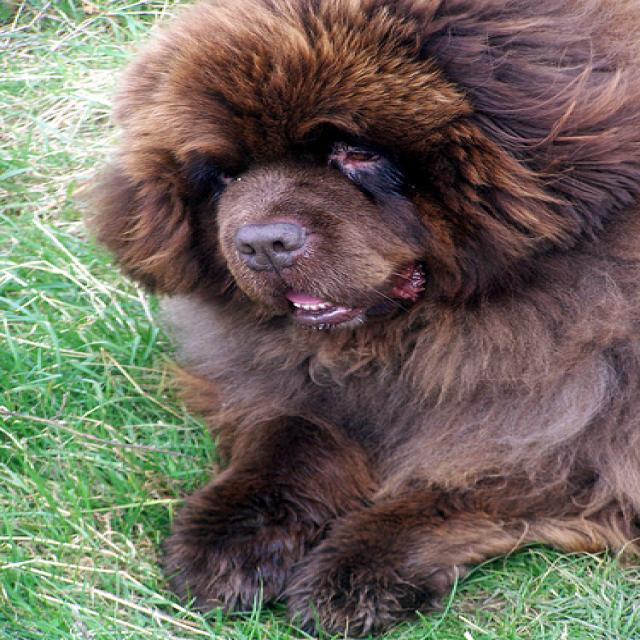dog: (94, 0, 553, 329)
